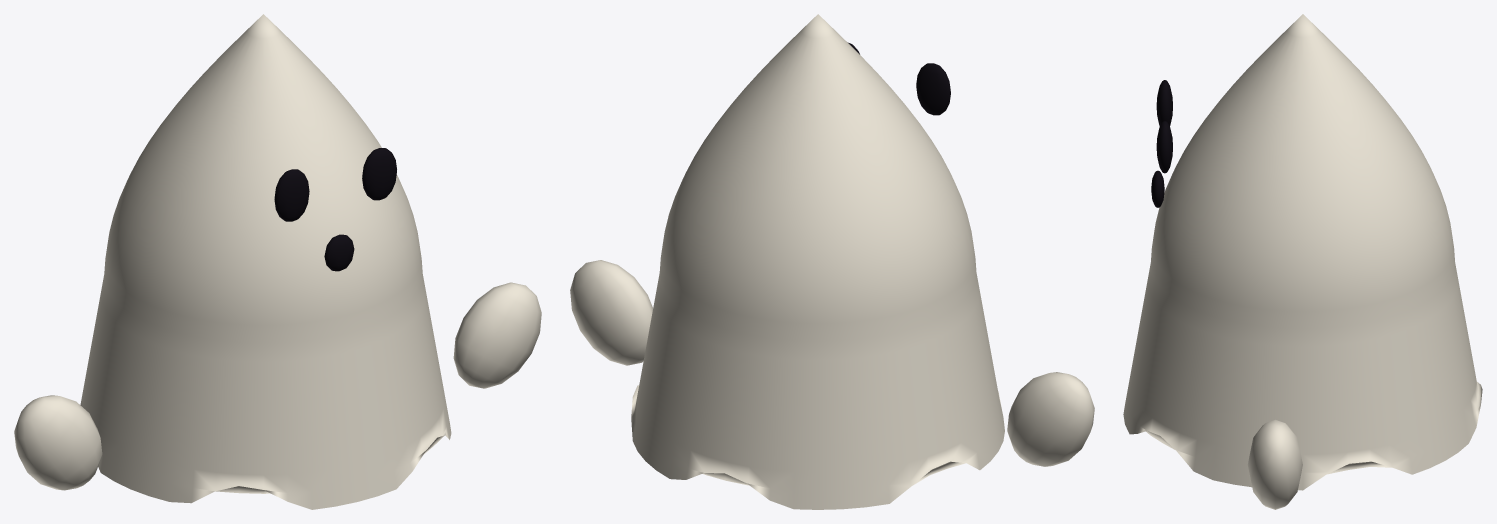
File: ghost.obj
3 renders of one model, left to right at view 1: azimuth 30°, elevation 25°; view 2: azimuth 150°, elevation 25°; view 3: azimuth 270°, elevation 25°, orthographic. The views are drawn at different scales.
Visible parts, largest first — view 1: LH_ghost; view 2: LH_ghost; view 3: LH_ghost.
Boxes of the visible parts, box(x1,y1,x2,y2) form: LH_ghost: box(14, 14, 541, 509); LH_ghost: box(570, 14, 1094, 509); LH_ghost: box(1123, 14, 1482, 509).
Size of the model in its own units: 0.4179 by 0.32 by 0.26.
